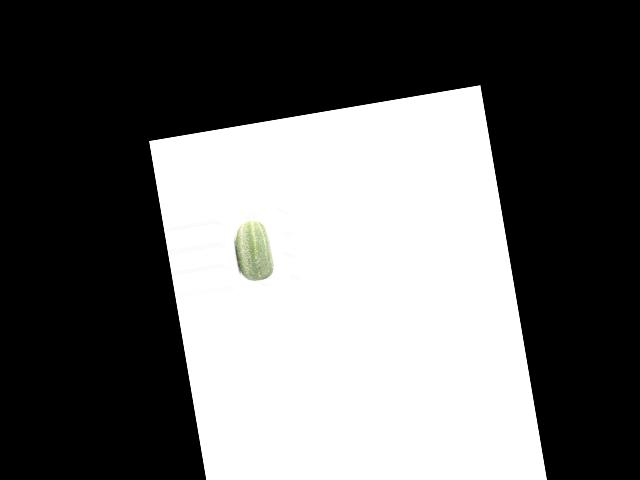cucumber: (231, 219, 275, 284)
